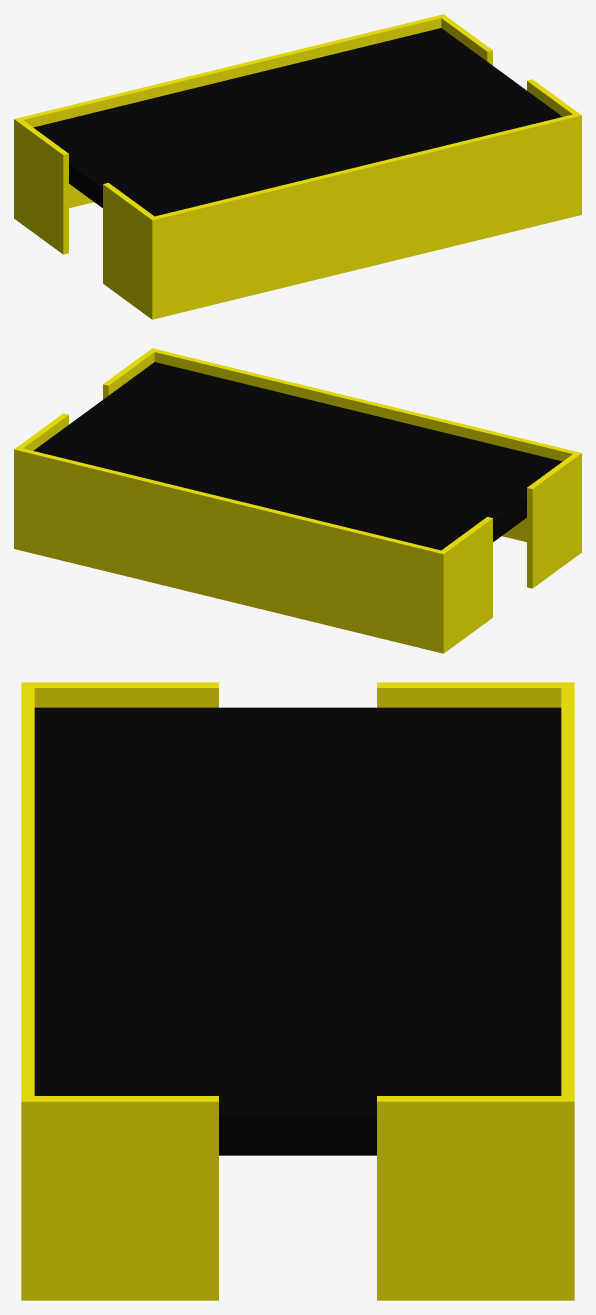
The model's file is StageModel.fbx.
The picture shows the model from 3 angles, top to bottom: view 1: azimuth 30°, elevation 25°; view 2: azimuth 150°, elevation 25°; view 3: azimuth 270°, elevation 25°; orthographic projection. The views are drawn at different scales.
Visible parts, largest first — view 1: Cube.001, Cube.003, Cube.002, Cube.006, Cube.007, Cube.005, Cube.004; view 2: Cube.001, Cube.002, Cube.003, Cube.006, Cube.007, Cube.004, Cube.005; view 3: Cube.001, Cube.004, Cube.005, Cube.002, Cube.003, Cube.006, Cube.007.
Boxes of the visible parts, x1,y1,x2,y2 form: Cube.001: (33,28,562,216); Cube.003: (155,114,576,318); Cube.002: (20,15,441,208); Cube.006: (103,183,157,319); Cube.007: (14,117,68,254); Cube.005: (527,79,581,216); Cube.004: (438,14,492,65); Cube.001: (33,362,562,550); Cube.002: (19,448,440,652); Cube.003: (154,349,575,542); Cube.006: (527,451,581,588); Cube.007: (438,517,492,653); Cube.004: (14,413,68,550); Cube.005: (103,348,157,399); Cube.001: (34,707,561,1155); Cube.004: (377,1096,574,1300); Cube.005: (21,1096,218,1300); Cube.002: (561,688,574,1095); Cube.003: (21,688,34,1095); Cube.006: (21,682,218,707); Cube.007: (377,682,574,707).
Bounding box in the file's own units: 4520 × 1000 × 2520.
7 materials, 7 textured.
